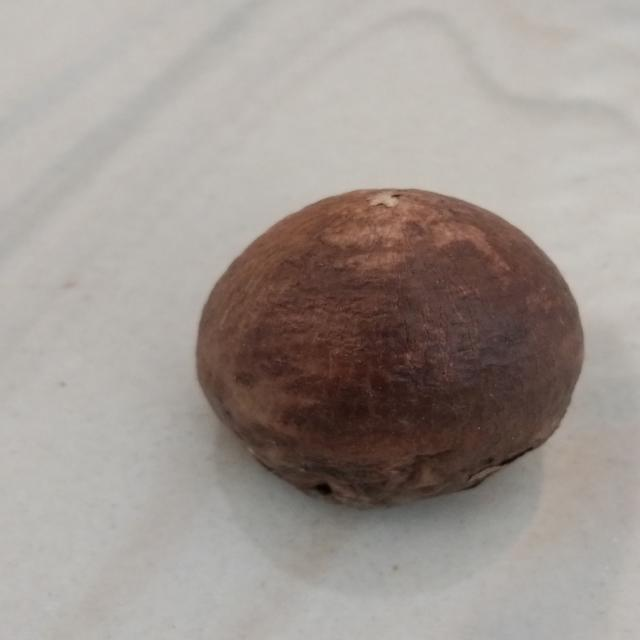karigot: (181, 179, 640, 537)
